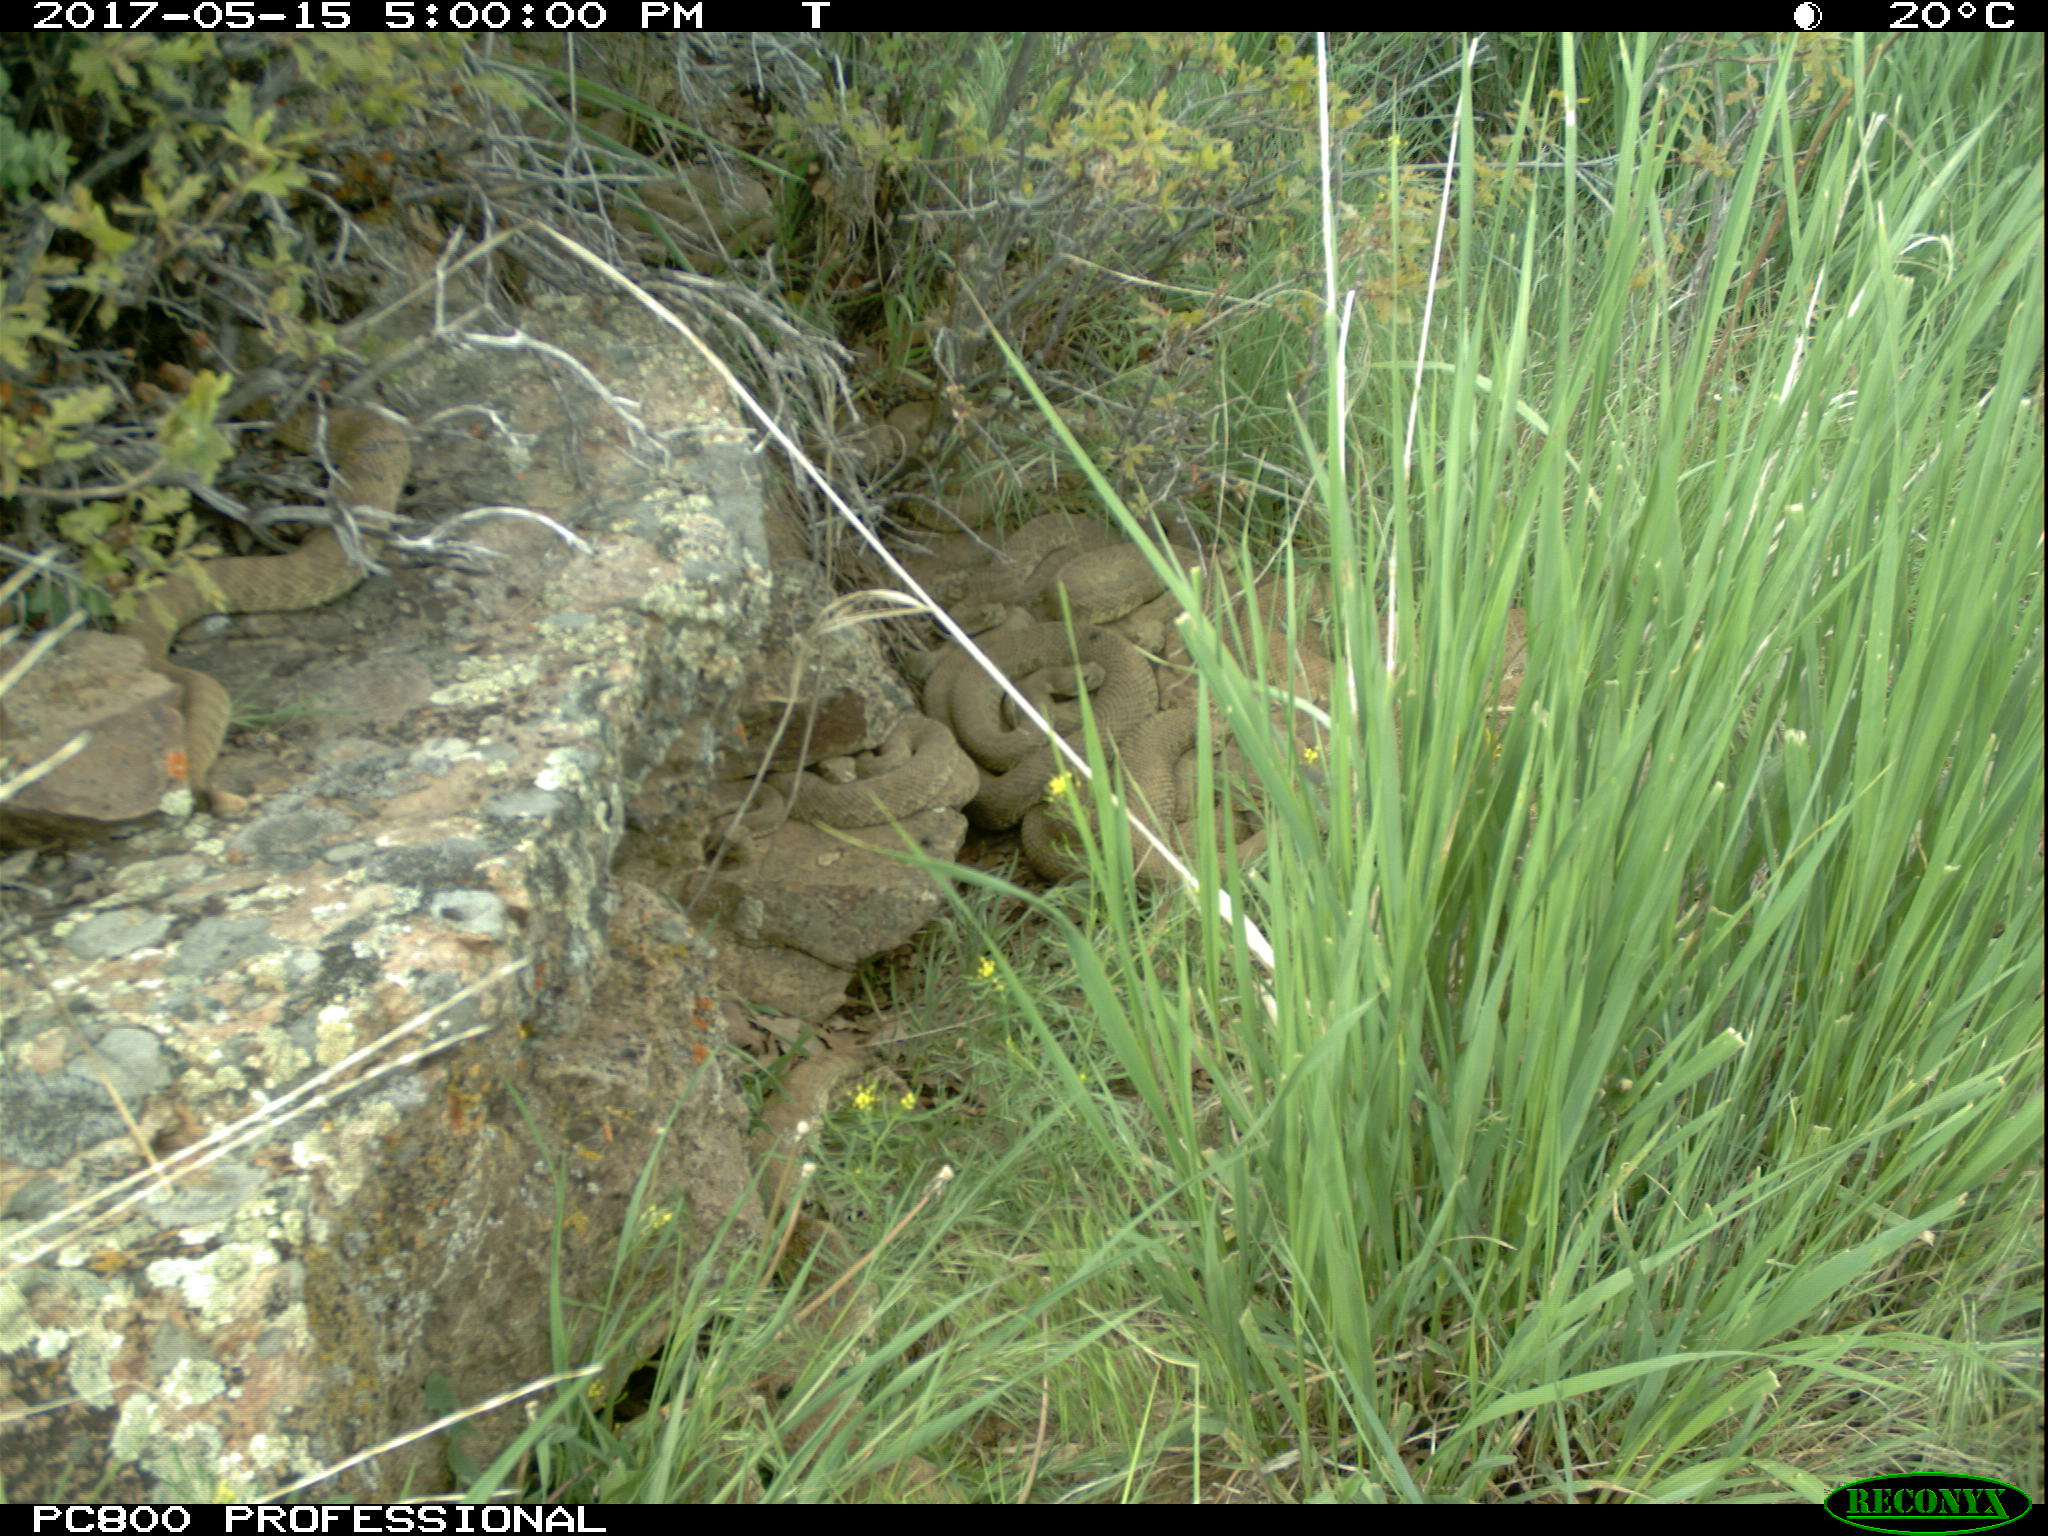snake: (126, 403, 414, 794), (910, 618, 1163, 826), (747, 1044, 863, 1404), (1021, 712, 1243, 883), (777, 712, 977, 828), (979, 507, 1151, 628), (610, 163, 777, 273), (1240, 566, 1334, 712), (689, 770, 789, 892), (901, 482, 1071, 528), (866, 402, 953, 473)
